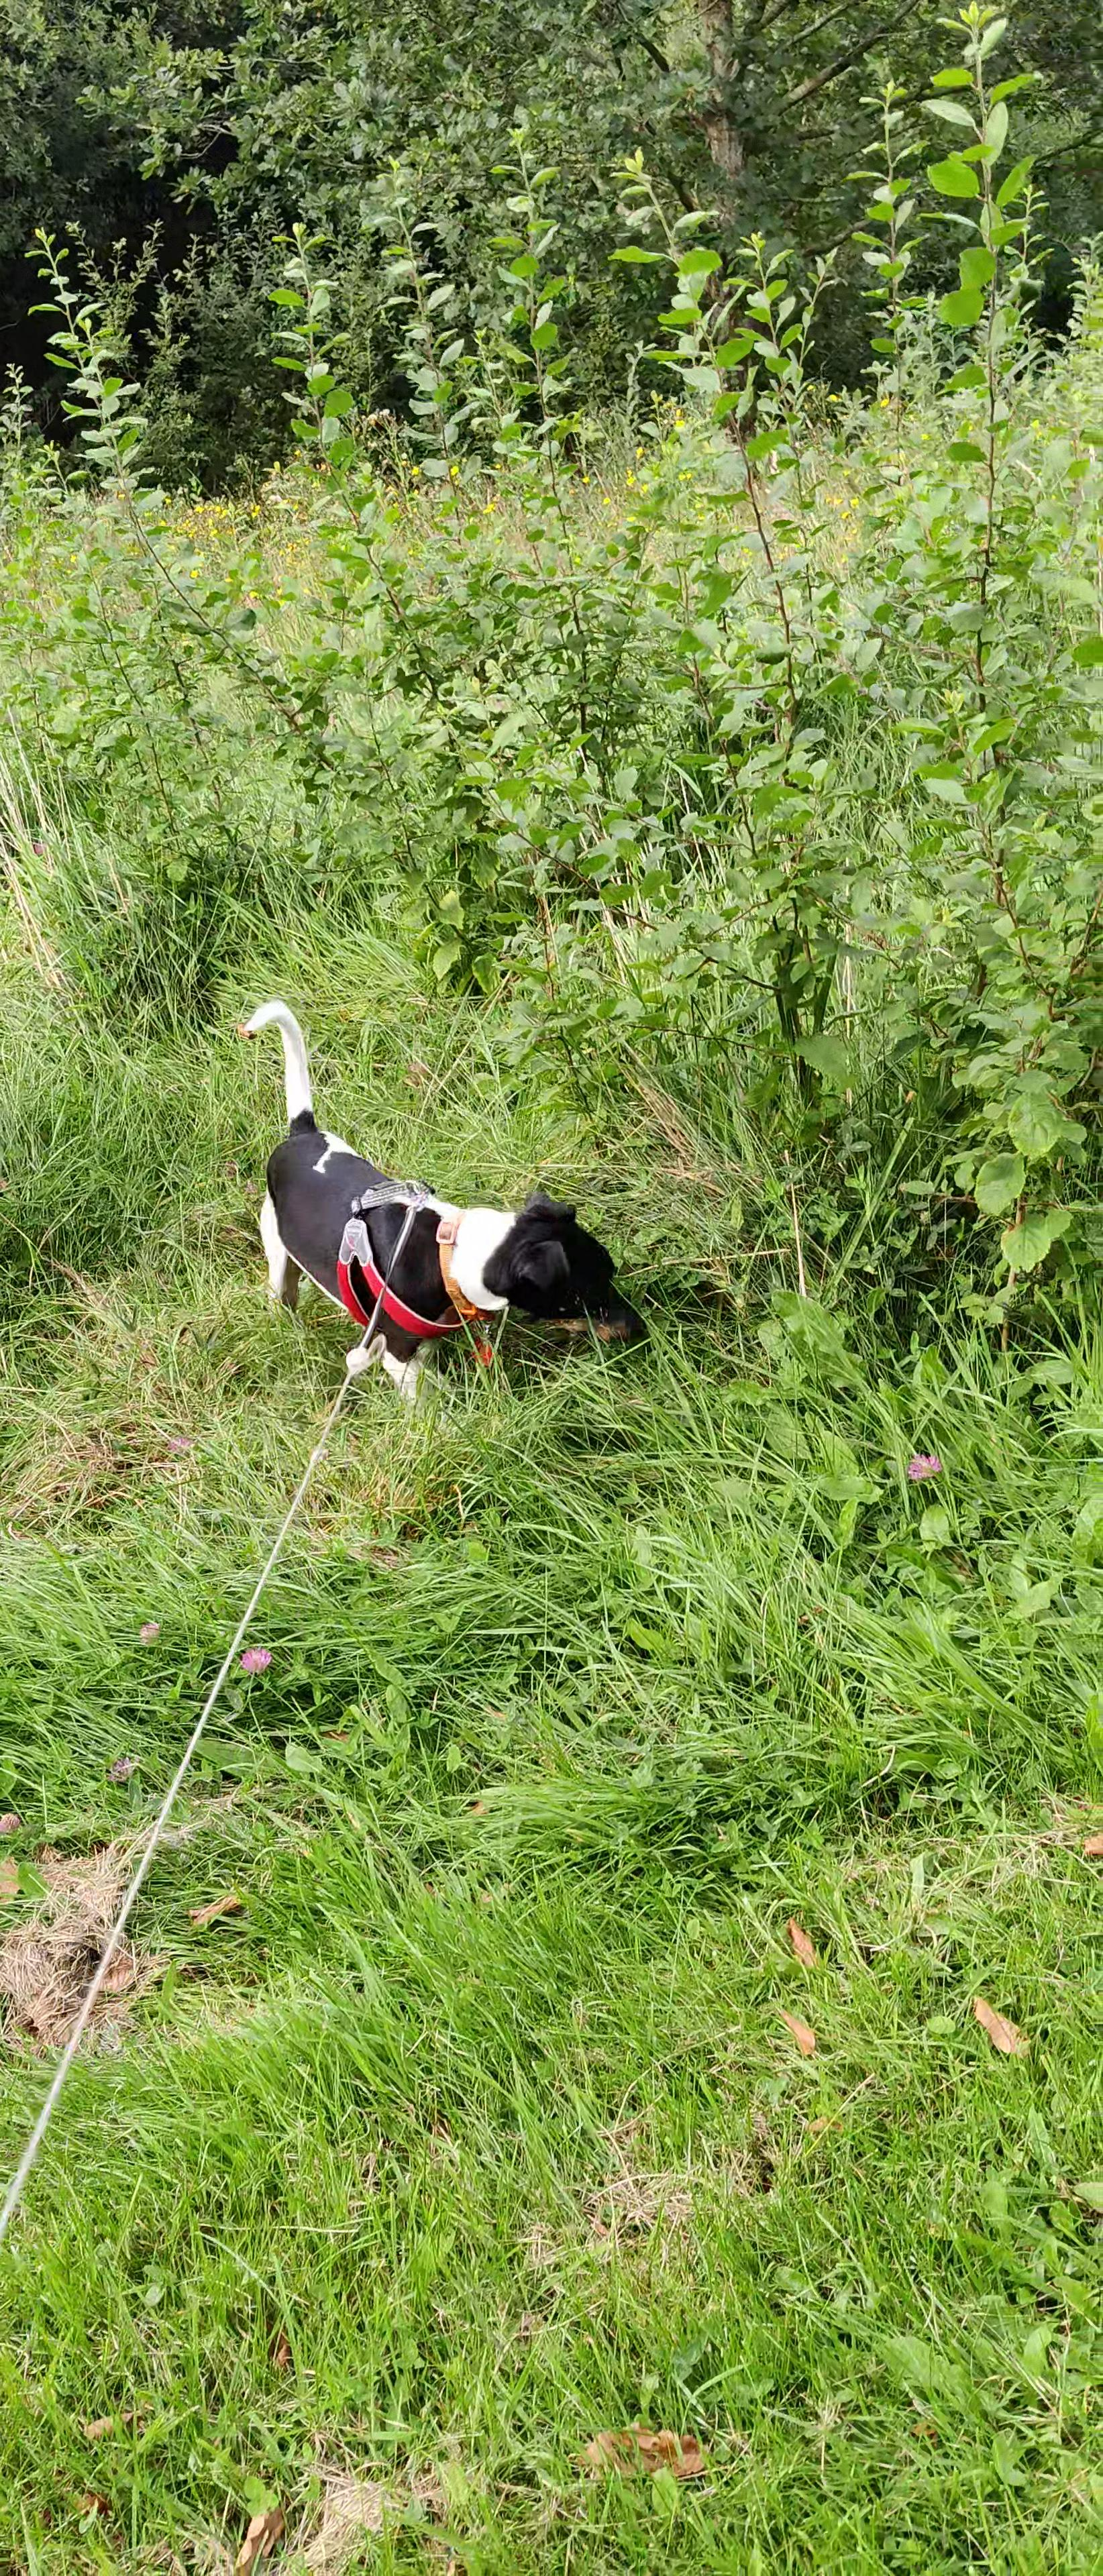Dog: (235, 996, 656, 1400)
